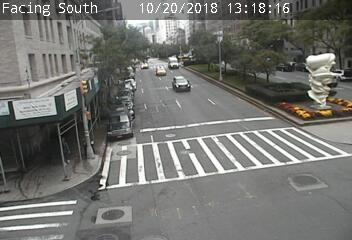car: (172, 76, 190, 92), (168, 57, 178, 69), (156, 66, 166, 76)
